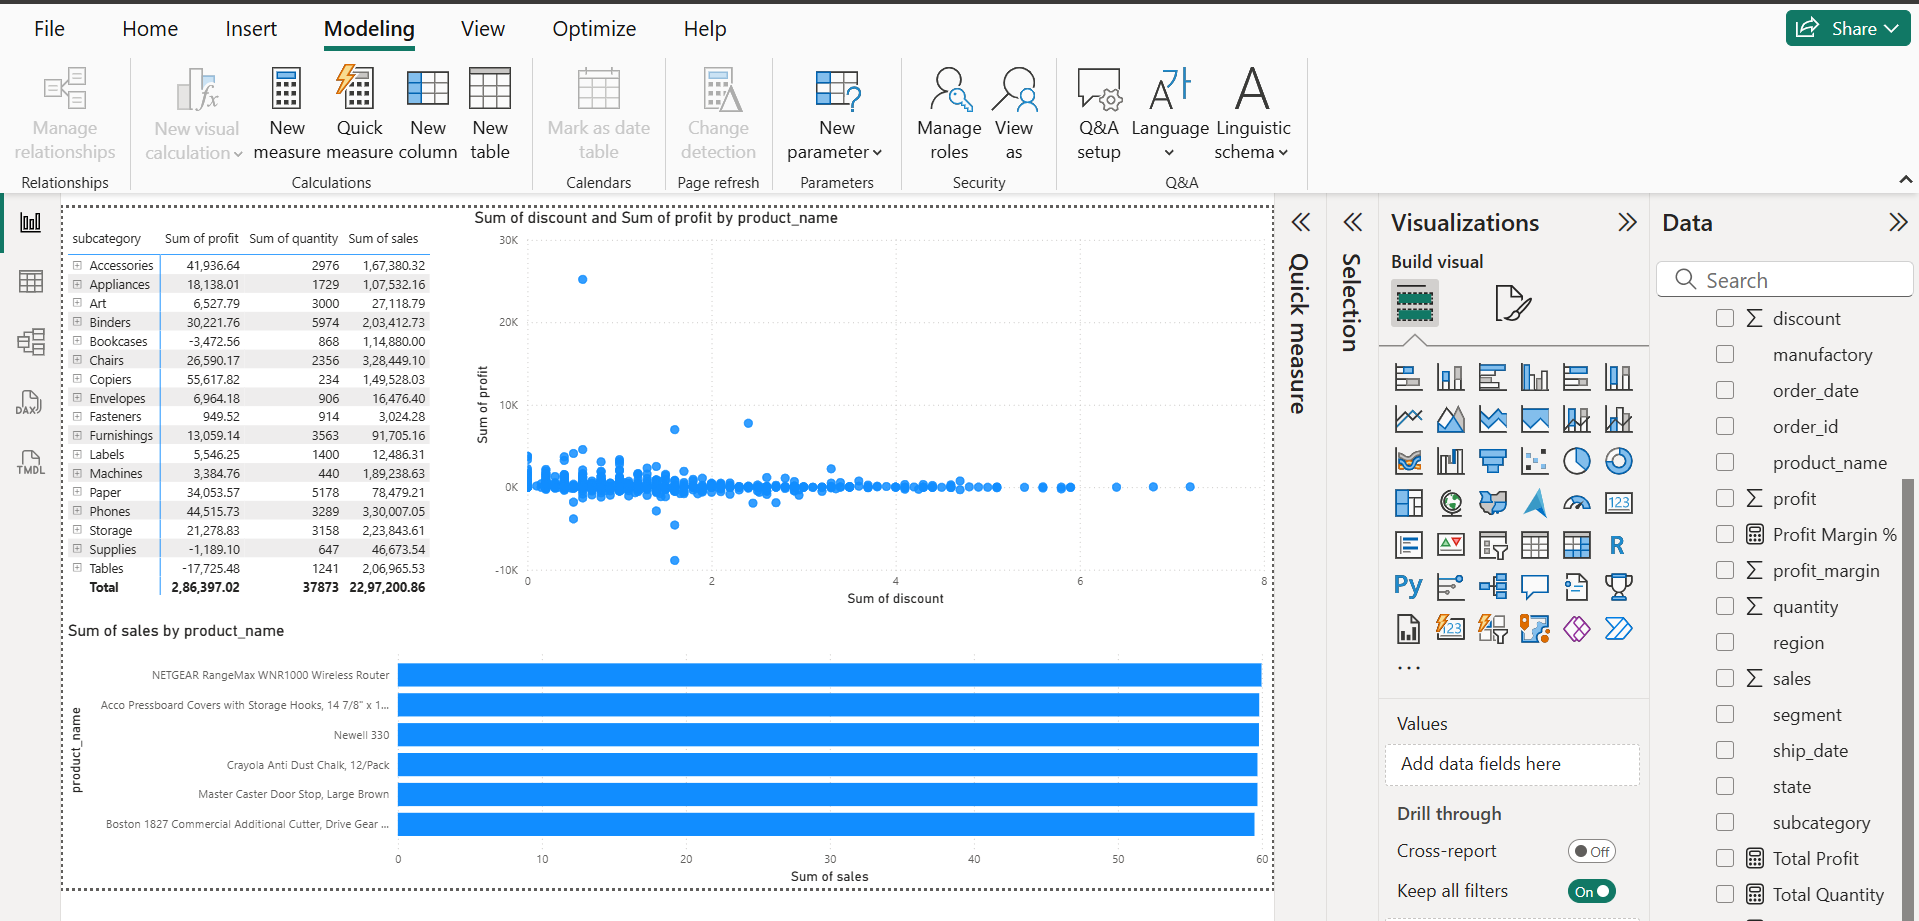

This screenshot's page, from the dashboard's own definition file:
{"tool":"powerbi","page":{"name":"Page 2","canvas":[1280,720],"ordinal":1},"visuals":[{"type":"pivotTable","fields":{"Rows":["superstore_dataset.subcategory","superstore_dataset.category"],"Values":["Sum(superstore_dataset.profit)","Sum(superstore_dataset.quantity)","Sum(superstore_dataset.sales)"]},"box":[0,16.7,430,408.8],"z":0},{"type":"clusteredColumnChart","fields":{"Category":["superstore_dataset.category"],"Y":["superstore_dataset.Profit Margin %"]},"box":[455.1,15.9,805.8,379.7],"z":1000},{"type":"barChart","fields":{"Category":["superstore_dataset.product_name"],"Y":["Sum(superstore_dataset.sales)"]},"box":[0,436.6,1280.3,283.1],"z":2000}]}

Visuals, with their boxes on the page's 1280x720 design canvas (x1, y1, x2, y2). These are canvas units, not pixel positions in the 1919x921 screenshot, which may show the page scaled, cropped or inside an application window:
pivotTable - superstore_dataset.subcategory x superstore_dataset.category: {"x1": 0, "y1": 17, "x2": 430, "y2": 426}
clusteredColumnChart - superstore_dataset.category x superstore_dataset.Profit Margin %: {"x1": 455, "y1": 16, "x2": 1261, "y2": 396}
barChart - superstore_dataset.product_name x Sum(superstore_dataset.sales): {"x1": 0, "y1": 437, "x2": 1280, "y2": 720}
